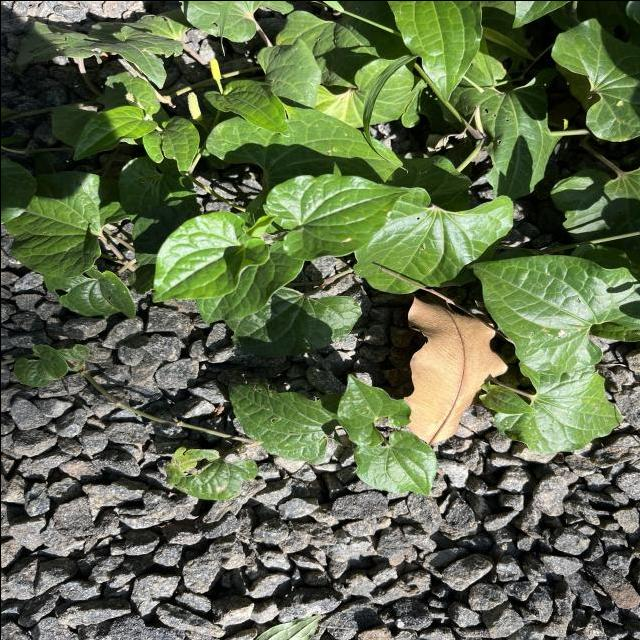Piper longum: (462, 252, 640, 376), (351, 428, 438, 497), (333, 371, 412, 446)
